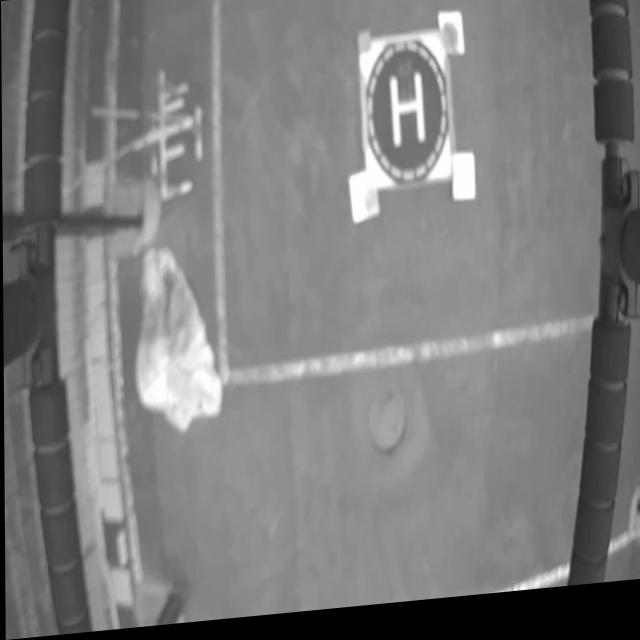Helipad: (387, 75, 425, 158)
